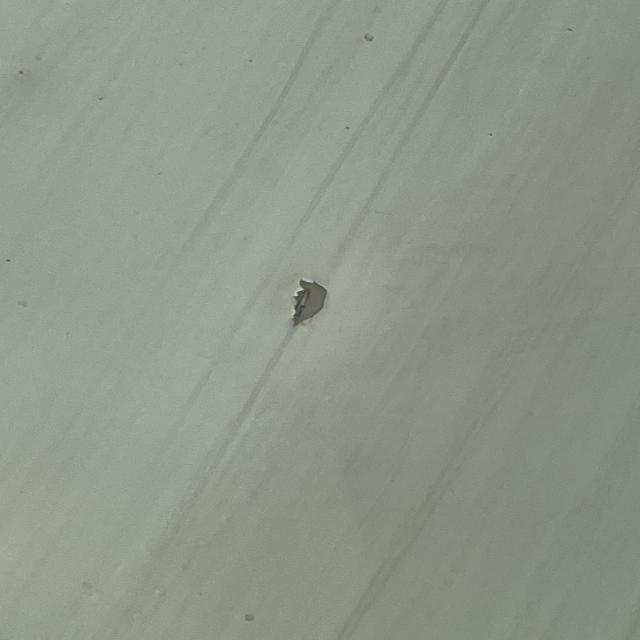crack: (289, 295, 332, 347)
